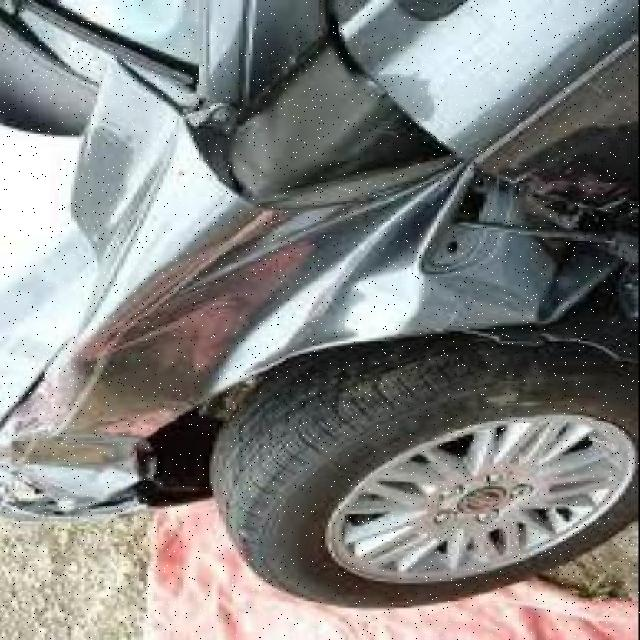damage: (5, 9, 634, 530)
